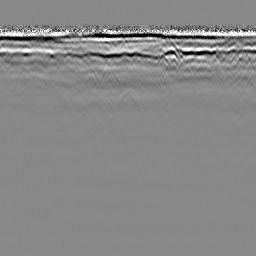cavity: (112, 86, 144, 116)
